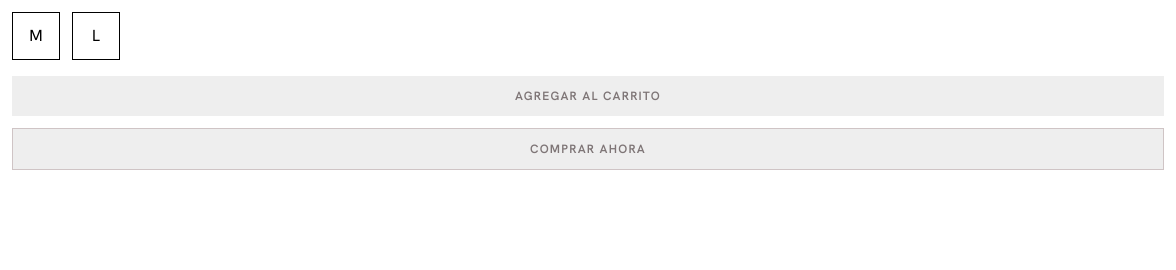
SizeSelector › size + color two-step selection › shows a Color group with one button per color of the selected size (multi-color size)
Click the button "M" at x=36, y=36, box x1=12 y1=12 x2=60 y2=60
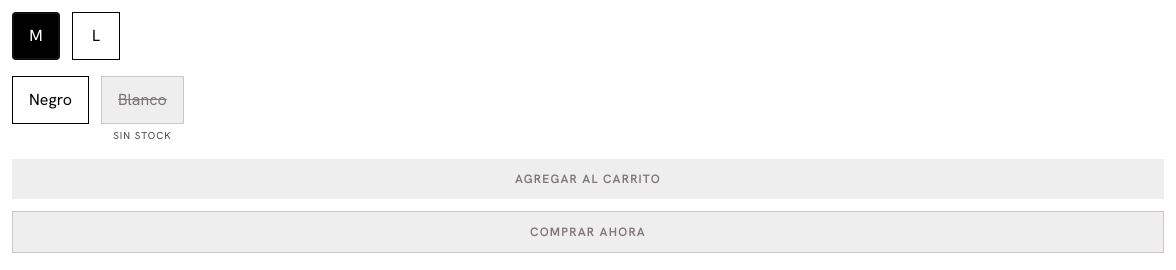
Expected: the element named "Color" is shown, x1=12 y1=76 x2=184 y2=142
Expected: the button "Negro" is shown, x1=12 y1=76 x2=89 y2=124
Expected: the button "Blanco" is shown, x1=101 y1=76 x2=184 y2=124
